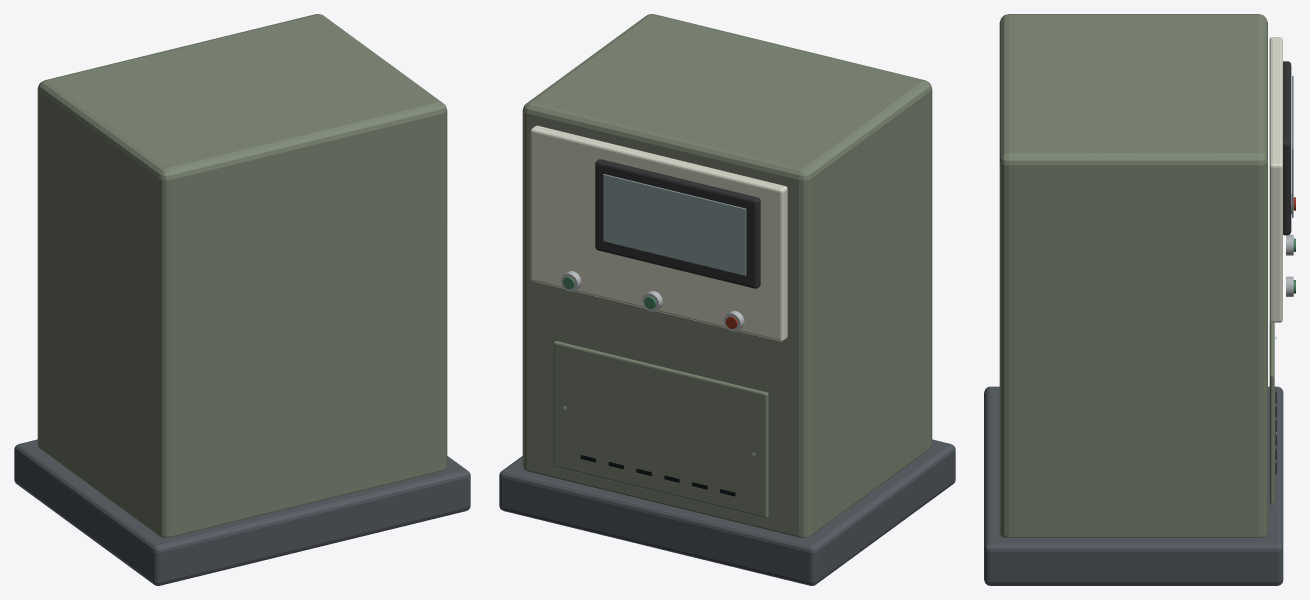
The model's file is hospital_console.glb.
The picture shows the model from 3 angles, left to right: view 1: azimuth 30°, elevation 25°; view 2: azimuth 150°, elevation 25°; view 3: azimuth 270°, elevation 25°; orthographic projection. The views are drawn at different scales.
Parts seen in each view (by area): view 1: hospital_console; view 2: hospital_console; view 3: hospital_console.
Part boxes in pixels (x1=…): hospital_console: x1=14, y1=14, x2=470, y2=585; hospital_console: x1=499, y1=14, x2=955, y2=585; hospital_console: x1=984, y1=14, x2=1295, y2=585.
Bounding box in the file's own units: 0.74 × 0.905 × 0.604.
